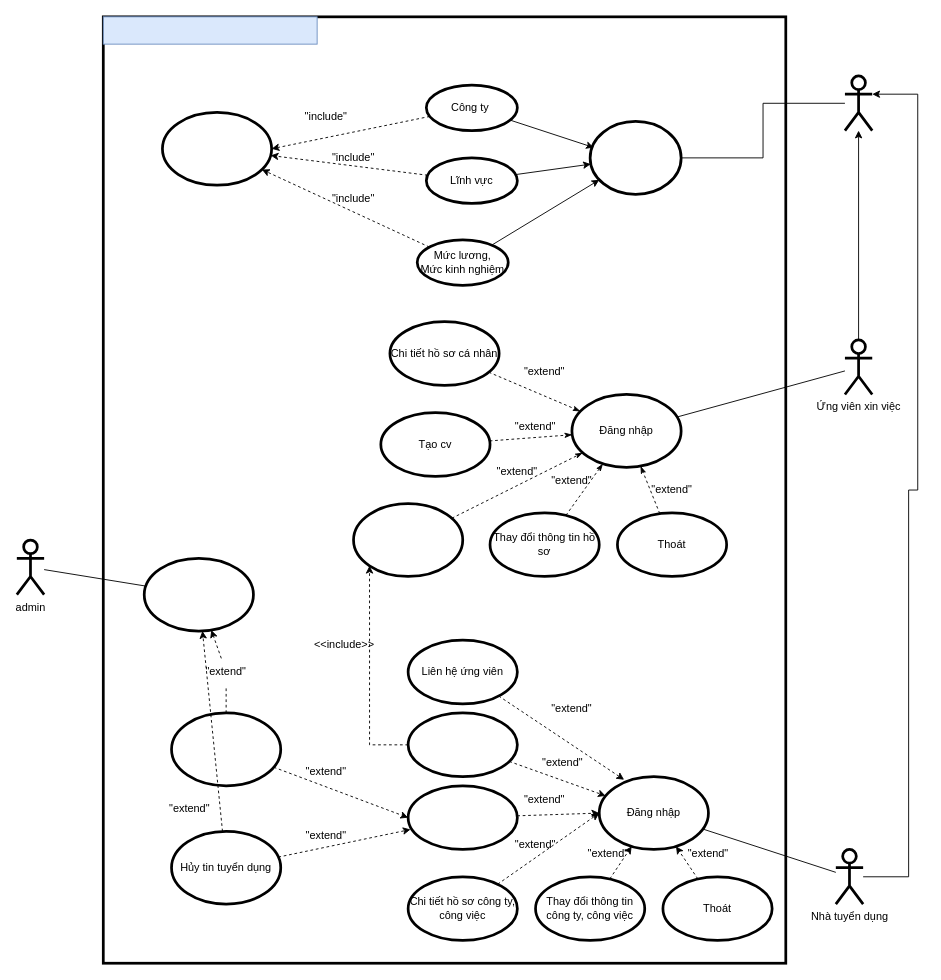
Image size: 941x980. Some labels were removed from this diagram. The shapes that lost their labels are listed below. From the top down, each one's centre as x and y in pixels, then its label:
At point (209, 30): "Job search".
At point (858, 102): "nonMenber".
At point (217, 148): "Kết quả tìm kiếm".
At point (635, 157): "Tìm kiếm công việc".
At point (408, 539): "Ứng tuyển công việc".
At point (198, 594): "Đăng nhập hệ thống".
At point (226, 749): "Xác nhận tin tuyển dụng".
At point (462, 744): "Xem danh sách ứng viên".
At point (462, 817): "Đăng tin tuyển dụng".
